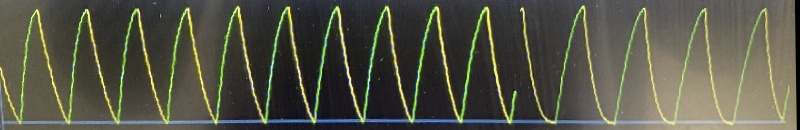normal_volume: (0, 1, 799, 129)
